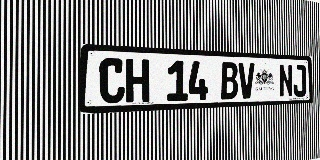1: (167, 60, 188, 101)
4: (188, 61, 208, 101)
B: (221, 62, 238, 99)
C: (99, 58, 125, 104)
H: (126, 59, 149, 103)
J: (293, 64, 306, 97)
N: (279, 64, 293, 97)
V: (238, 63, 255, 99)
